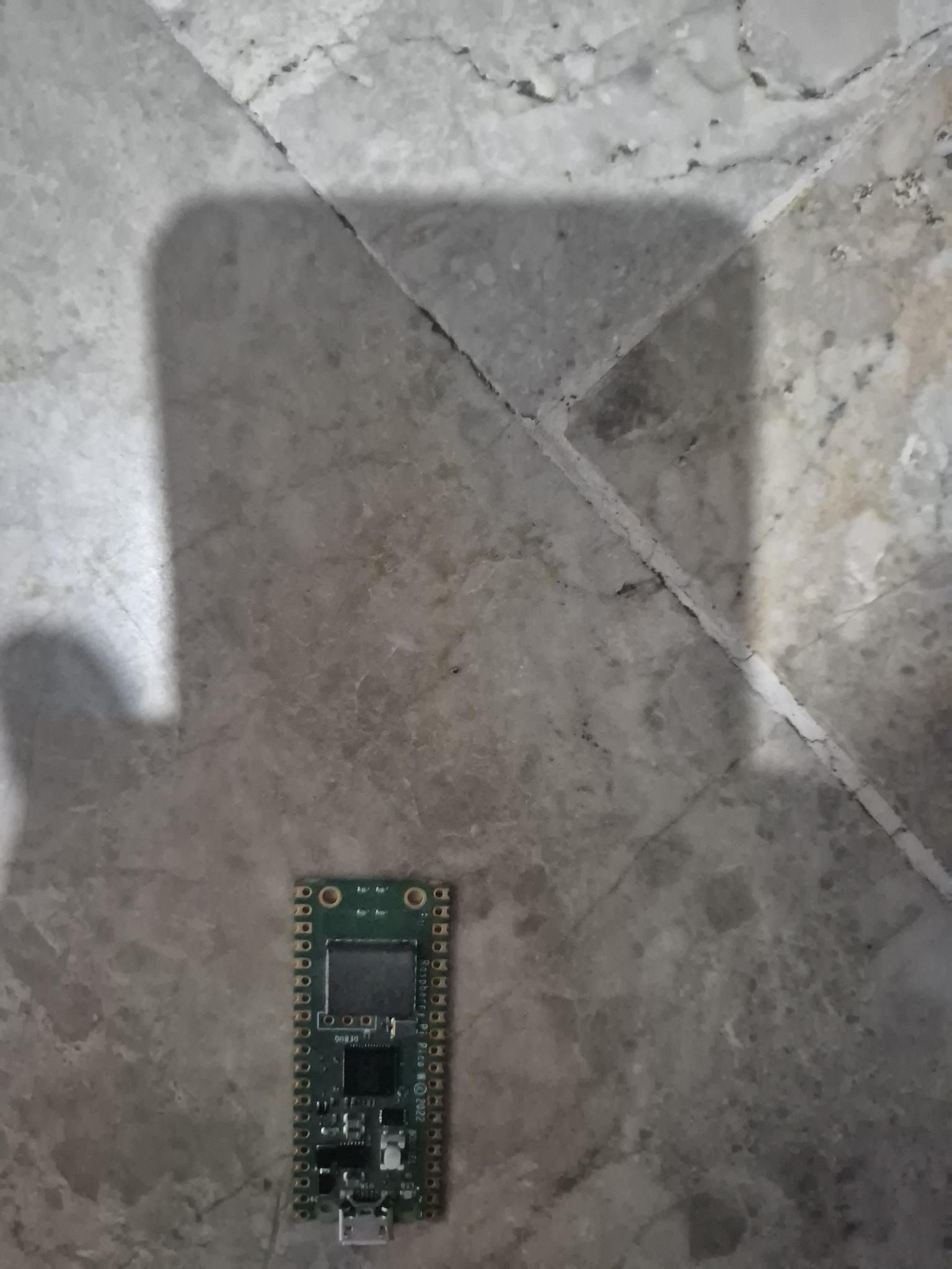raspberry-pi-pico-w: (292, 876, 452, 1245)
